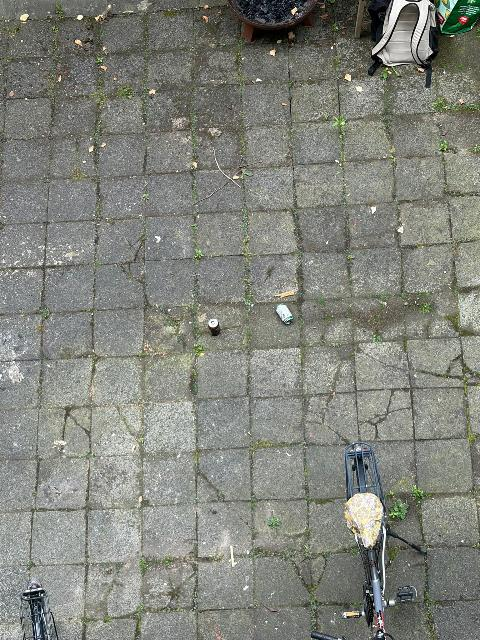can: (276, 303, 293, 325), (208, 319, 220, 334)
